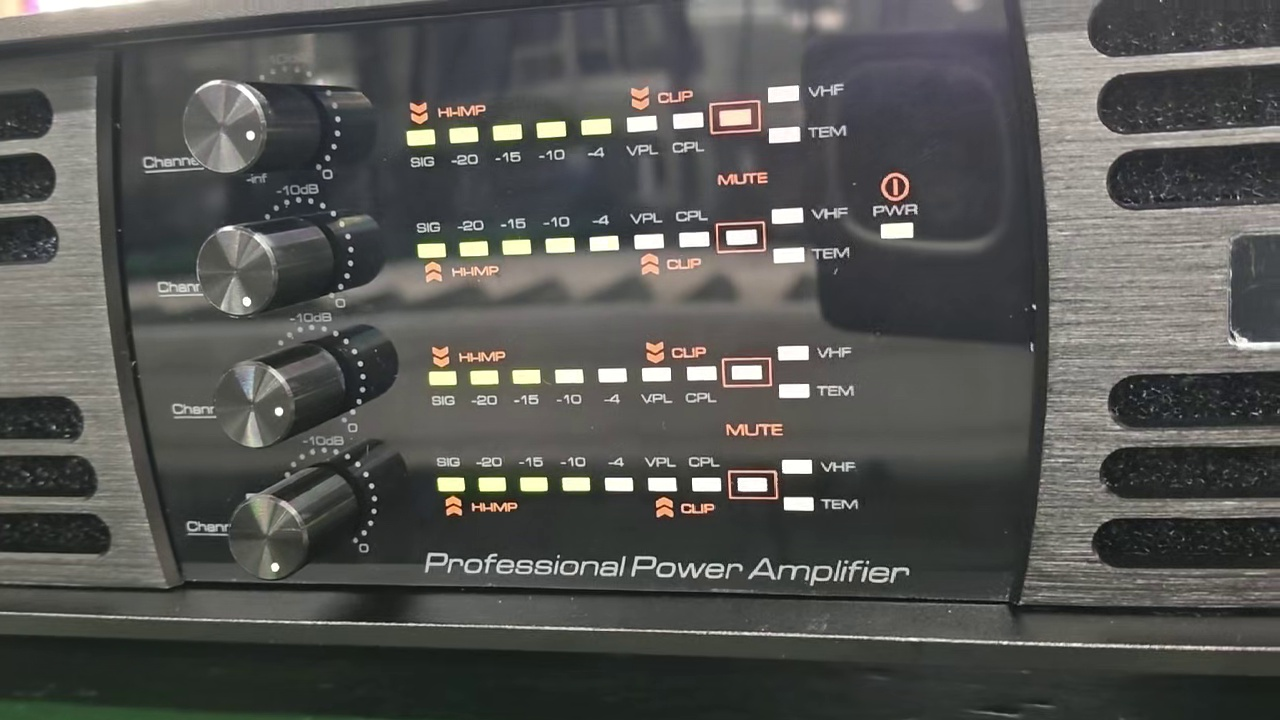FP_CPL: (667, 109, 708, 161), (682, 361, 721, 412), (673, 206, 711, 254), (687, 451, 722, 499)
FP_PWR: (870, 203, 921, 242)
FP_PWR_area: (870, 164, 921, 249)
FP_SIG_area: (400, 82, 859, 166), (410, 205, 855, 289), (421, 336, 858, 414), (430, 448, 861, 527)
FP_VPL: (621, 112, 664, 164), (629, 206, 668, 256), (640, 364, 676, 412), (643, 452, 680, 496)
